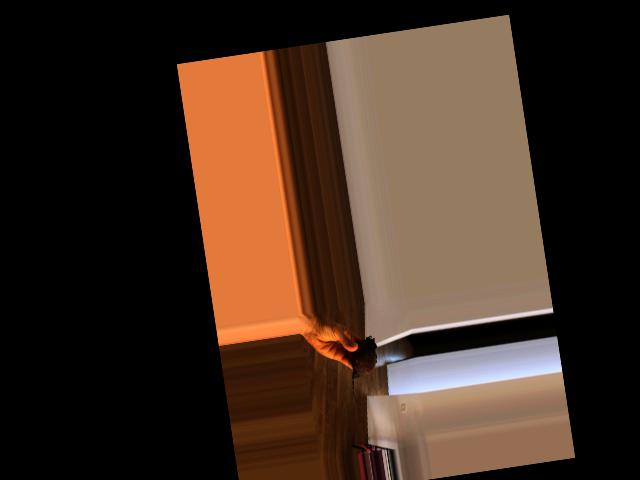beet: (345, 336, 384, 404)
